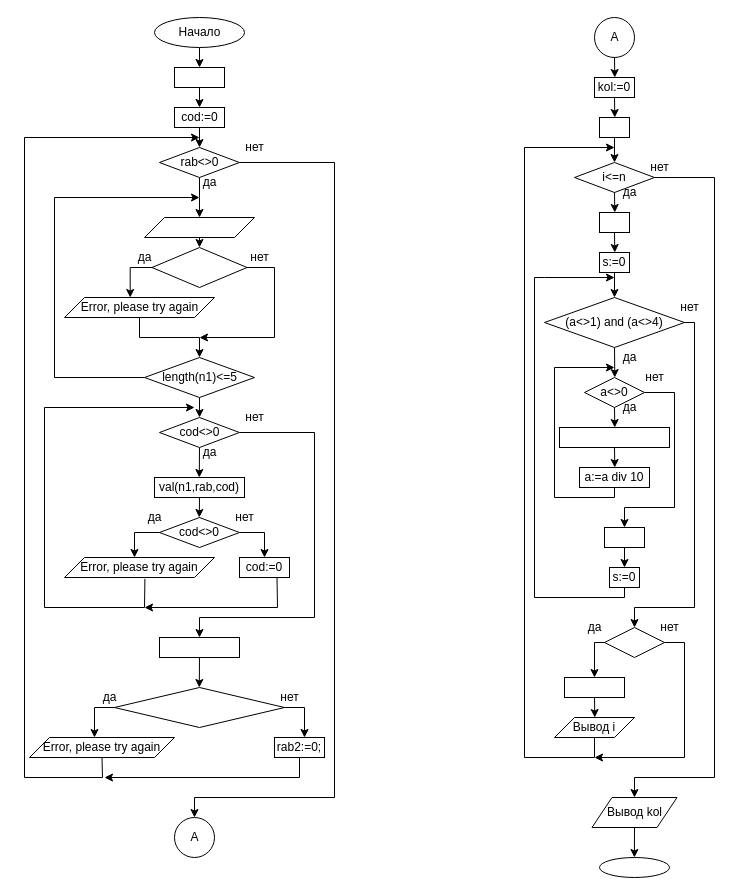
Some shapes in this 740 by 895 pixel diagram are drawn without their labels. The shapes that lost their labels are listed below. From the top down, each one's centre as x and y in pixels, then its label:
At pixel 199 77: "rab2:=1".
At pixel 614 127: "i:=1".
At pixel 199 227: "Ввод n1".
At pixel 614 222: "a:=i".
At pixel 199 267: "lenght(n1)>5".
At pixel 614 437: "s:=s+sqr(a mod 10)".
At pixel 624 537: "a:=s".
At pixel 199 647: "n:=strtoint(n1)".
At pixel 634 642: "a=1".
At pixel 199 707: "(n<=0) or (n>30000)".
At pixel 594 687: "kol:=kol+1".
At pixel 634 867: "конец".
